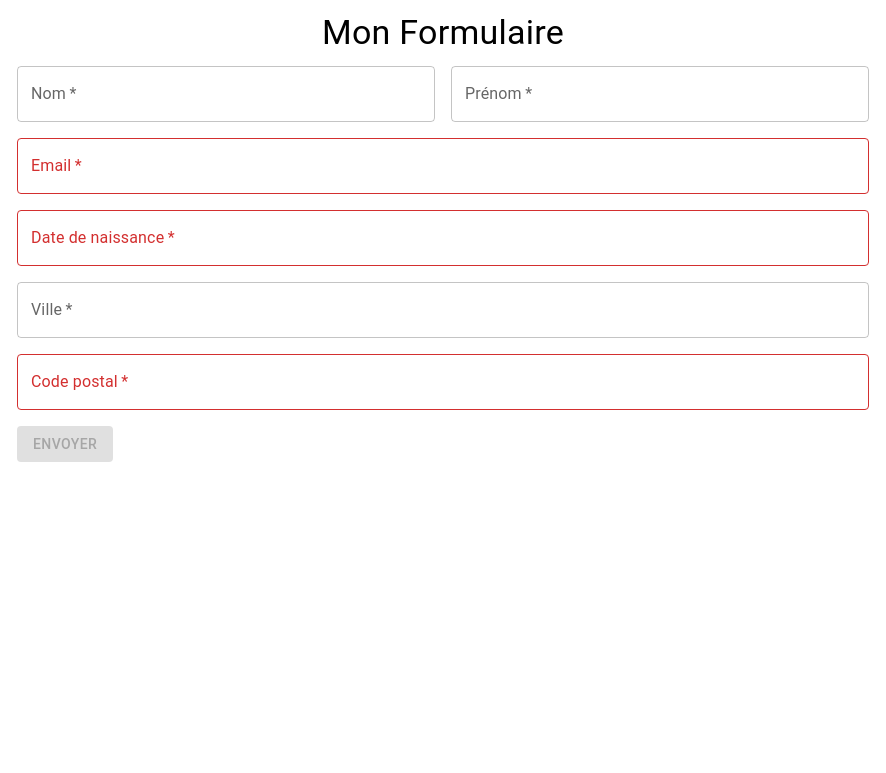
Test case: Forms component › should display an error toast and corresponding errors in red
The image size is (886, 773).
Note: Remplir tous les champs du formulaire avec des valeurs invalides
Type "123" into the field labelled "Nom *". click: (226, 94)
box: [17,66,435,122]
Type "456" into the field labelled "Prénom *". click: (660, 94)
box: [451,66,869,122]
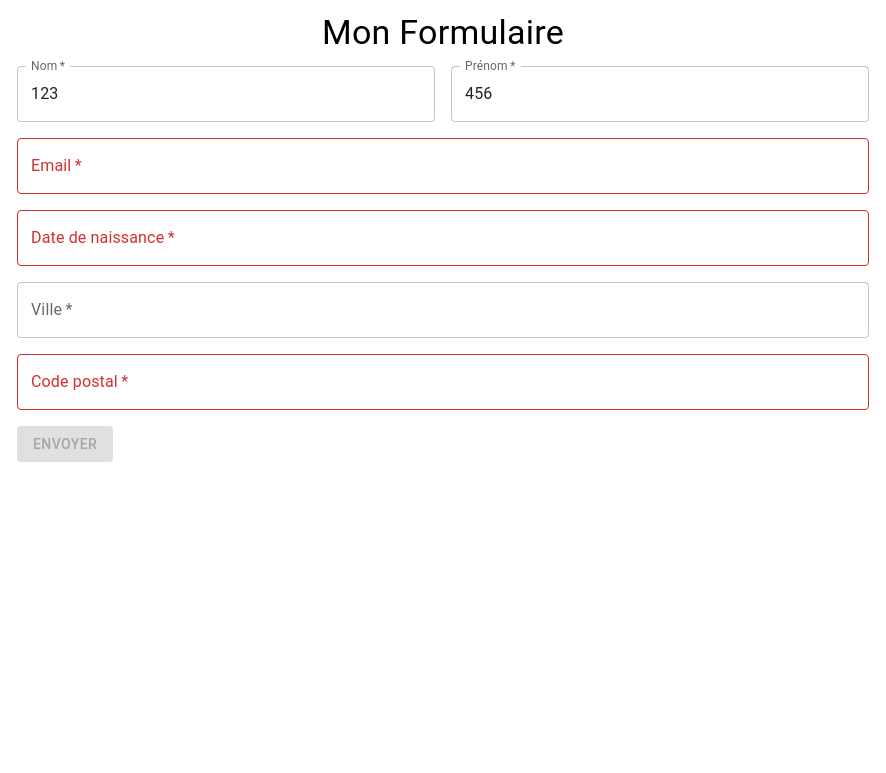
Type "email@example.com" into the field labelled "Email *". click: (443, 166)
box: [17,138,869,194]
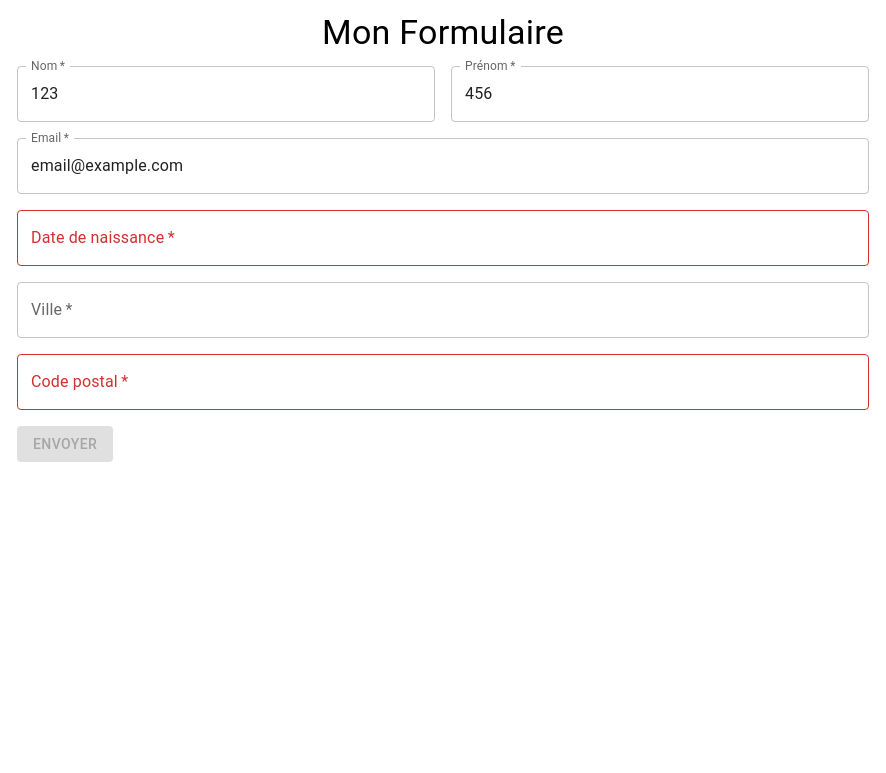
Type "02/02/1994" into the field labelled "Date de naissance *". click: (443, 238)
box: [17,210,869,266]
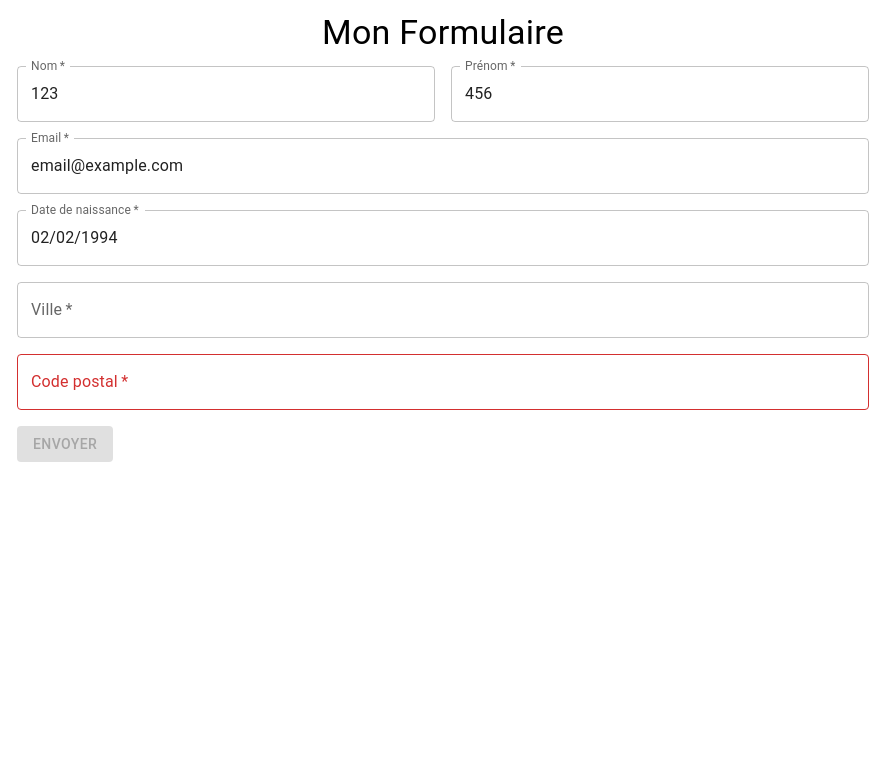
Type "Grasse" into the field labelled "Ville *". click: (443, 310)
box: [17,282,869,338]
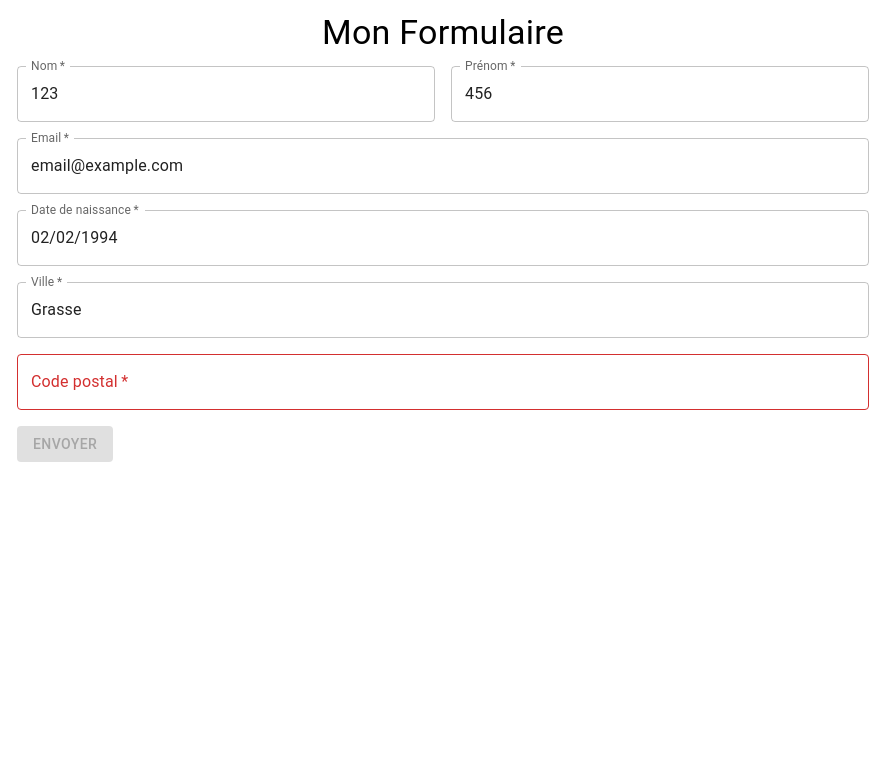
Type "06130" into the field labelled "Code postal *". click: (443, 382)
box: [17,354,869,410]
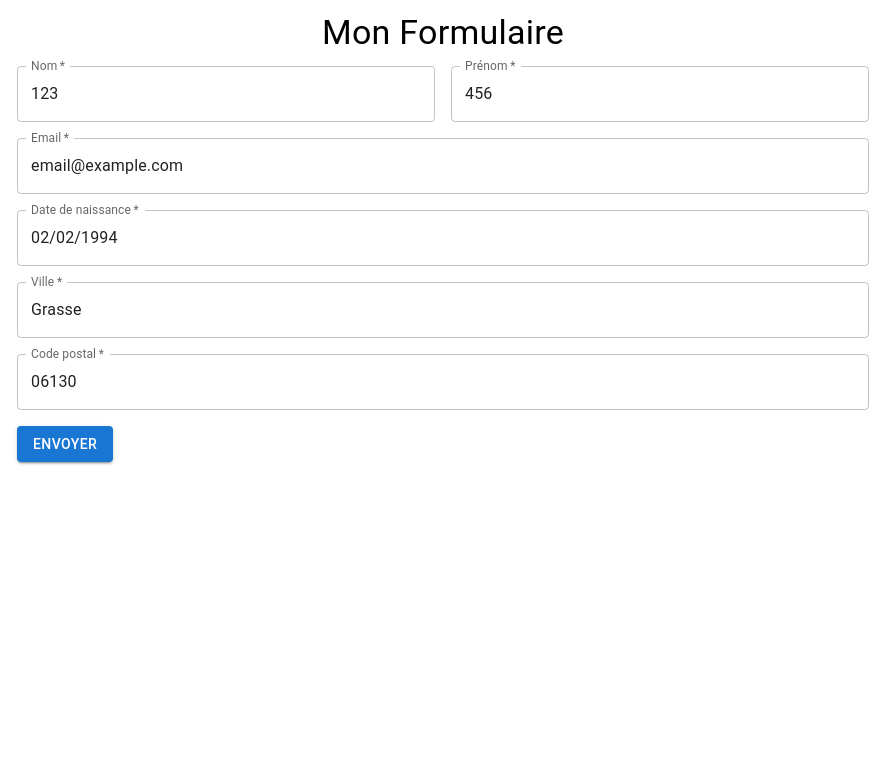
Note: Soumettre le formulaire
Submit the form from the button "Envoyer", box [17,426,113,462]
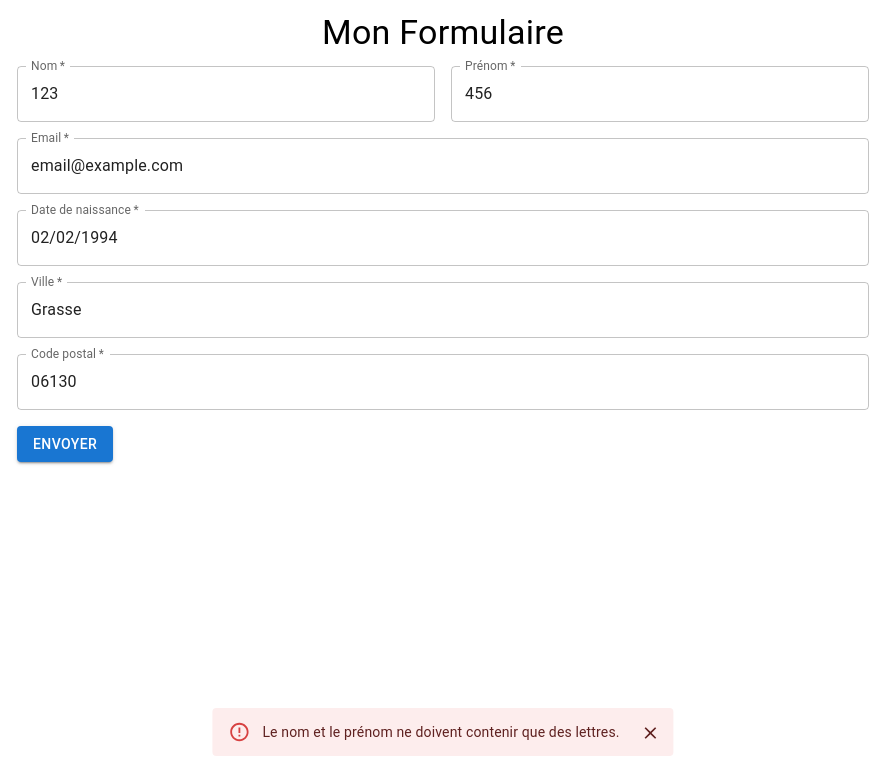
Result: the text "Le nom et le prénom ne doivent contenir que des lettres." is shown at [262,724,620,740]
